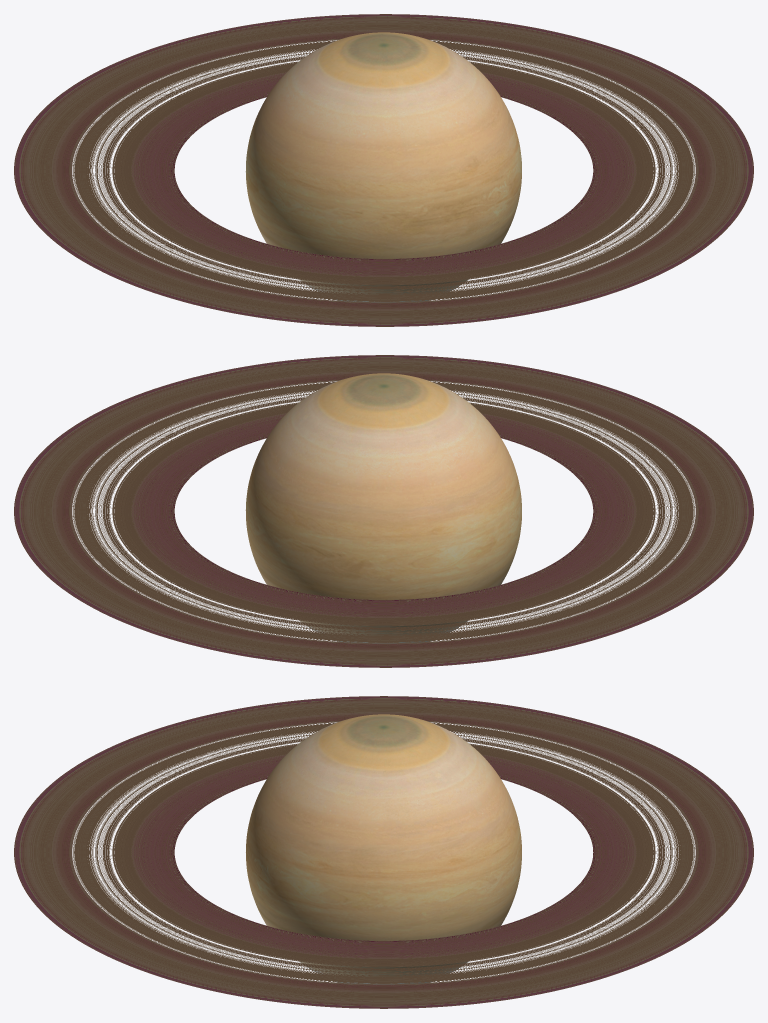
Rendered from saturnplanet.glb.
The picture shows the model from 3 angles, top to bottom: view 1: azimuth 30°, elevation 25°; view 2: azimuth 150°, elevation 25°; view 3: azimuth 270°, elevation 25°; orthographic projection.
Parts seen in each view (by area): view 1: node_id32_1, node_id30_0; view 2: node_id32_1, node_id30_0; view 3: node_id32_1, node_id30_0.
Boxes of the visible parts, x1,y1,x2,y2 form: node_id32_1: [14, 14, 753, 326]; node_id30_0: [245, 32, 521, 302]; node_id32_1: [14, 355, 753, 667]; node_id30_0: [245, 373, 521, 643]; node_id32_1: [14, 696, 753, 1008]; node_id30_0: [246, 714, 521, 984].
Size of the model in its own units: 11.5 by 4.29 by 11.5.
2 materials, 2 textured.
